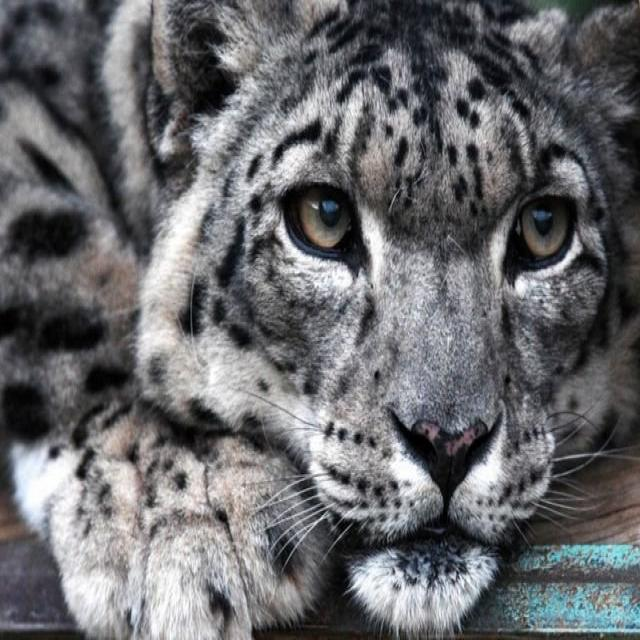Leopard: (0, 0, 633, 640)
